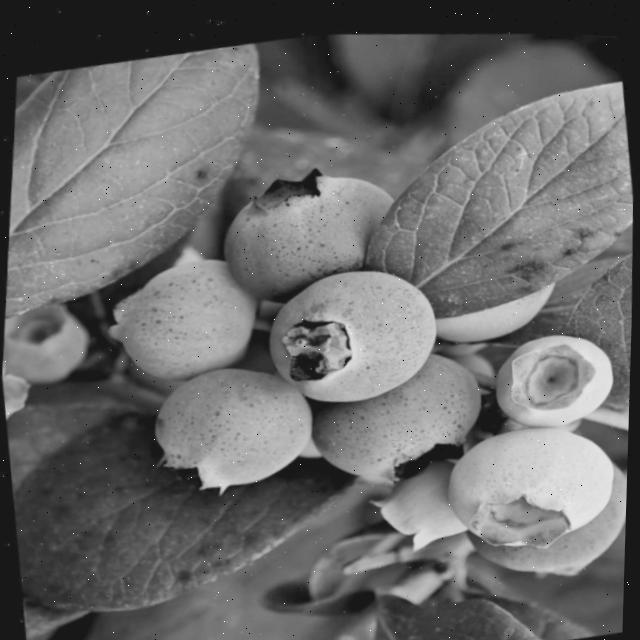RipeBlueBerry: (253, 240, 452, 416), (203, 141, 410, 304), (296, 332, 500, 497)
Semi-RipeBlueBerry: (137, 339, 329, 503), (93, 236, 266, 391)
UnripeBlueBerry: (433, 399, 631, 561)
